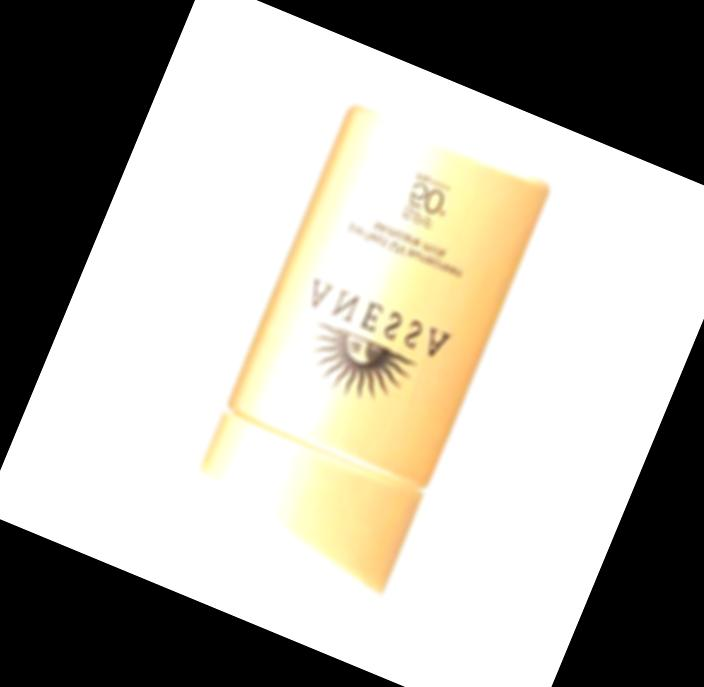cosmetic: (180, 107, 552, 601)
